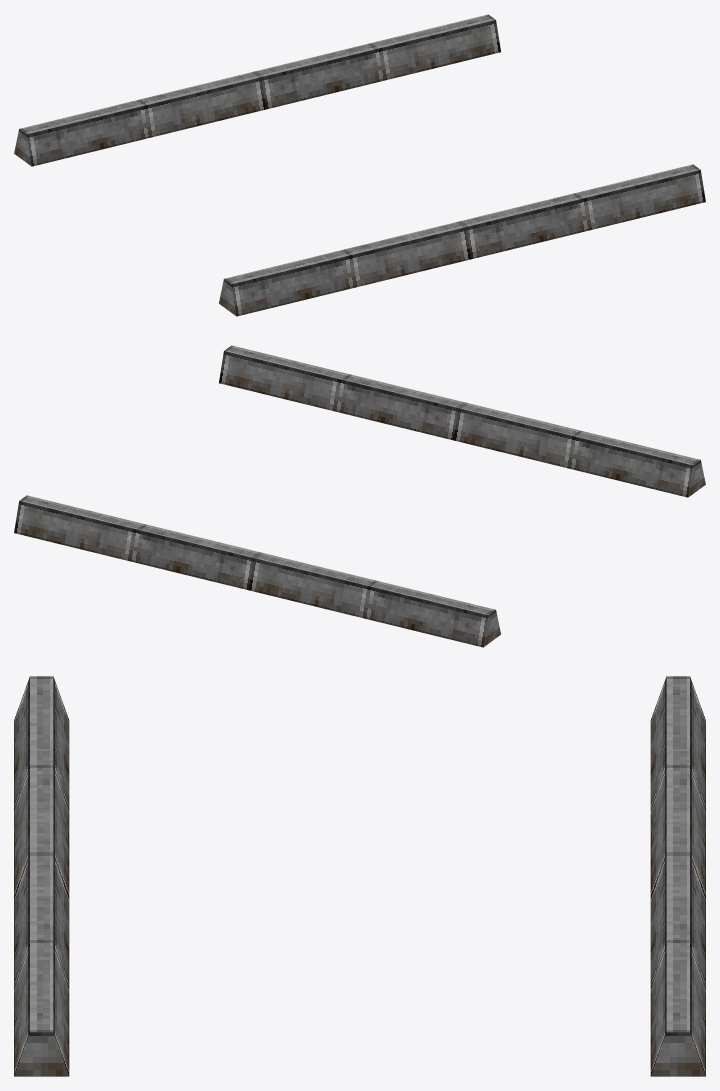
File: bridge.glb
The picture shows the model from 3 angles, top to bottom: view 1: azimuth 30°, elevation 25°; view 2: azimuth 150°, elevation 25°; view 3: azimuth 270°, elevation 25°; orthographic projection. The views are drawn at different scales.
Parts seen in each view (by area): view 1: Box01; view 2: Box01; view 3: Box01.
Part boxes in pixels (box(x1,y1,x2,y2)): Box01: box(14, 14, 705, 316); Box01: box(14, 345, 705, 647); Box01: box(14, 676, 705, 1076).
Bounding box in the file's own units: 25.6 × 1.49 × 21.03.
1 material, 1 textured.
